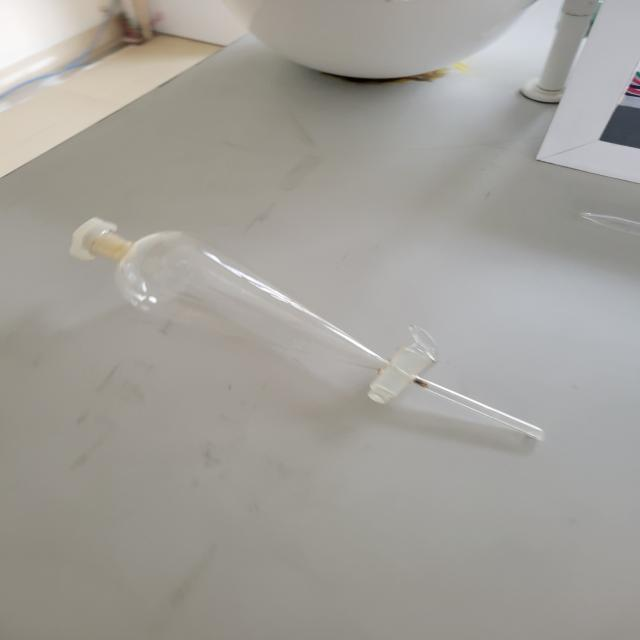Separating_Funnel: (53, 188, 575, 493)
